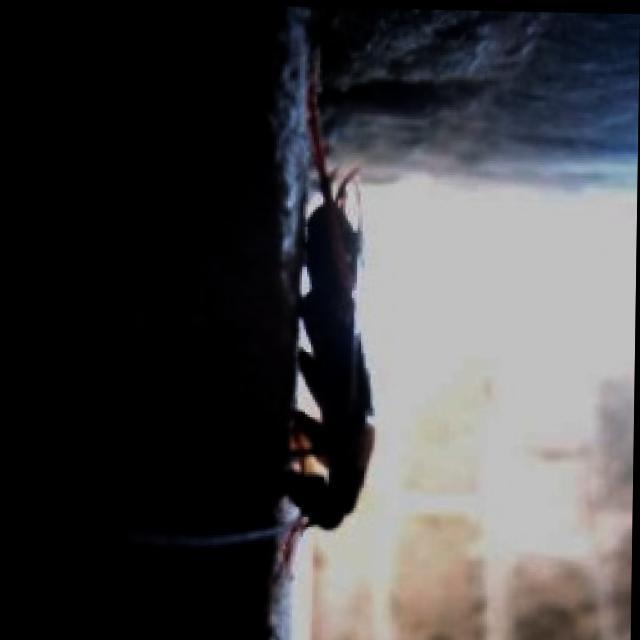cockroach: (242, 83, 409, 557)
